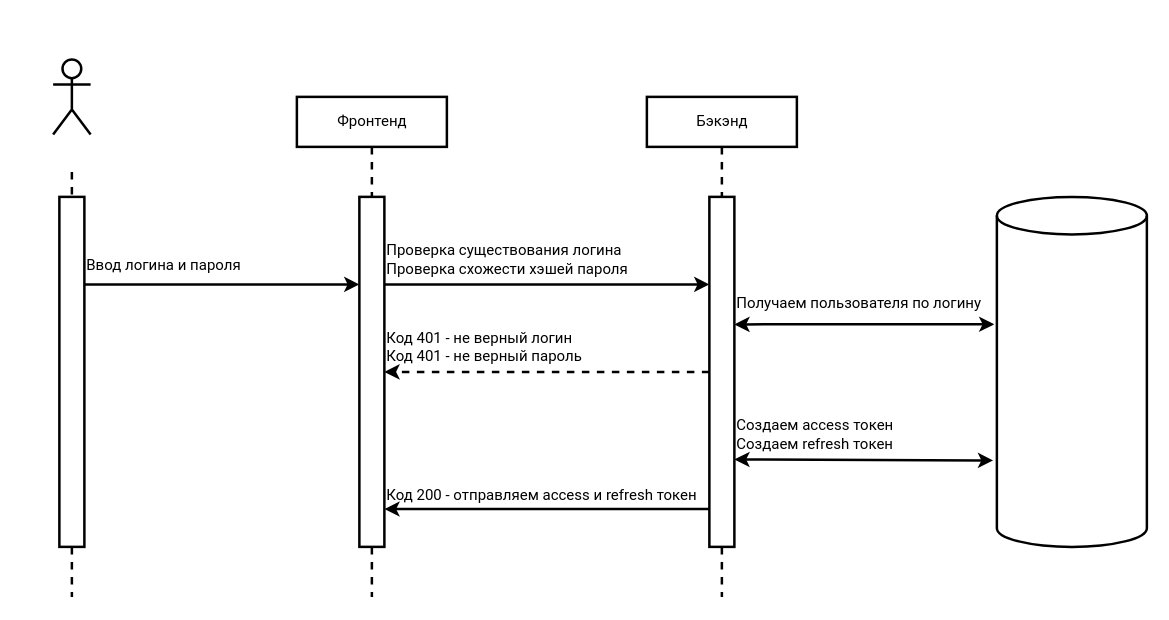
Image size: 1169x620. Some labels were removed from this diagram. The shapes that lost their labels are listed below. From the top down, each one's centre as x and y in pixels, then its label:
At (x=71, y=96): "Пользователь".
At (x=1071, y=371): "База данных".
